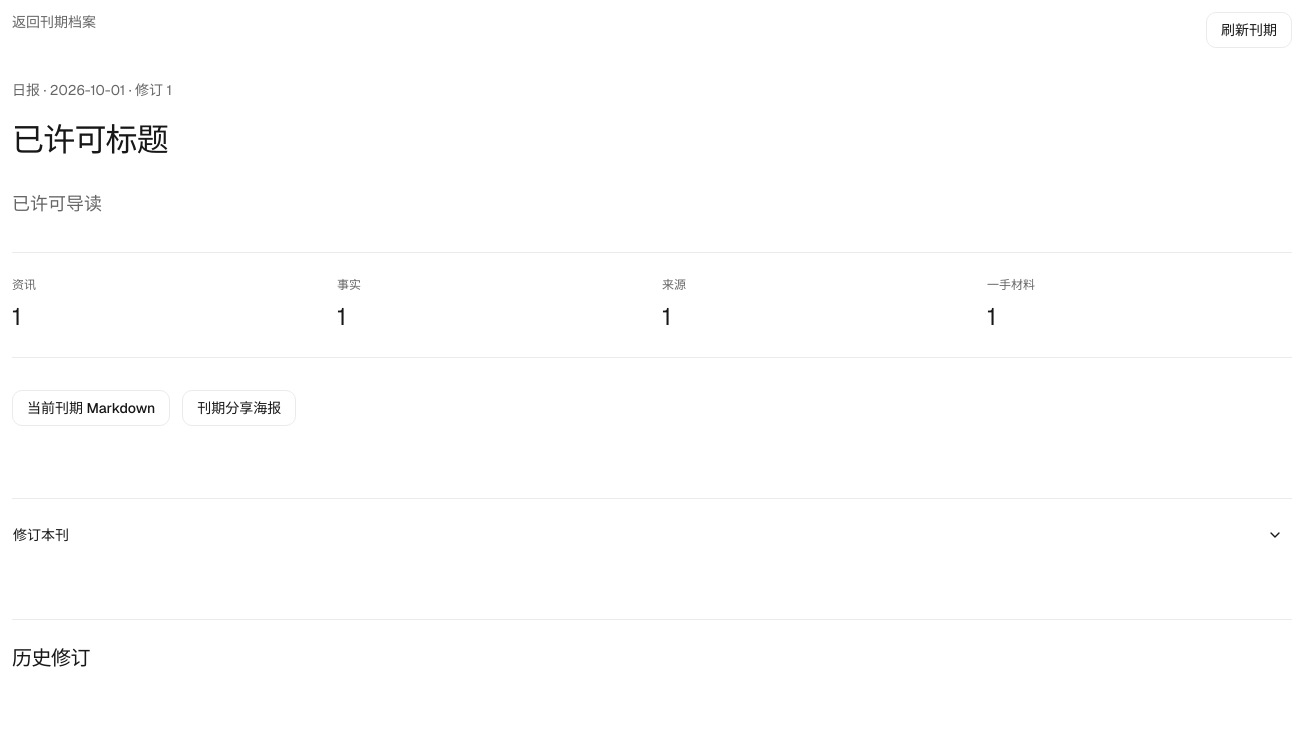
Scenario: Edition reading › does not keep a previously readable body after a failed permission check
The width and height of the screenshot is (1304, 732).
Click the button "刷新刊期" at (1249, 30), box top-left (1206, 12), bottom-right (1292, 48)
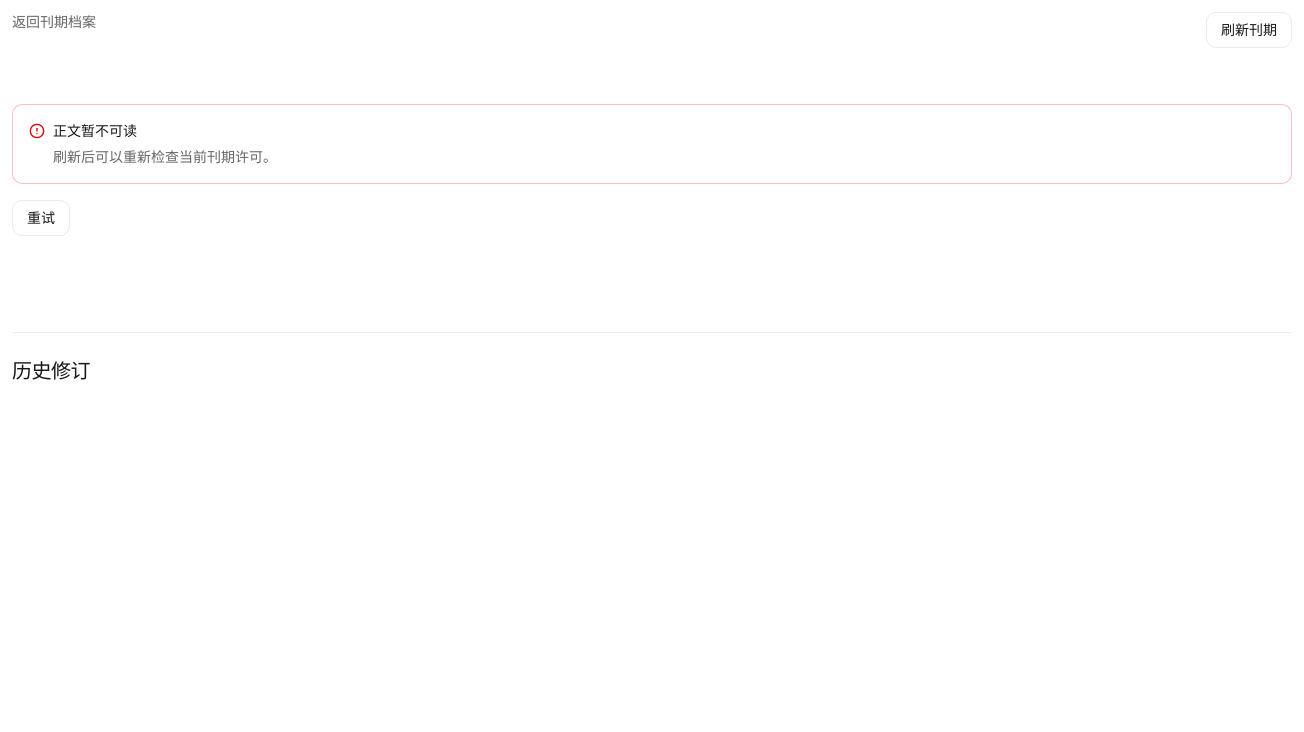
Expected: the text "已许可导读" is not shown
Expected: the text "正文暂不可读" is shown, top-left (53, 121), bottom-right (137, 141)
